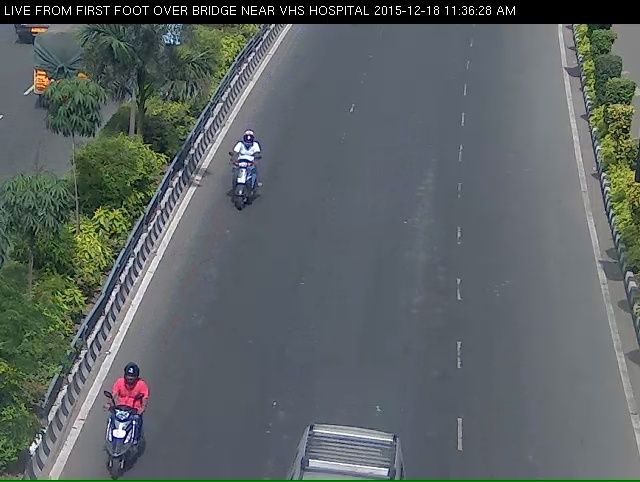Person: (214, 148, 259, 235), (80, 417, 127, 480)
